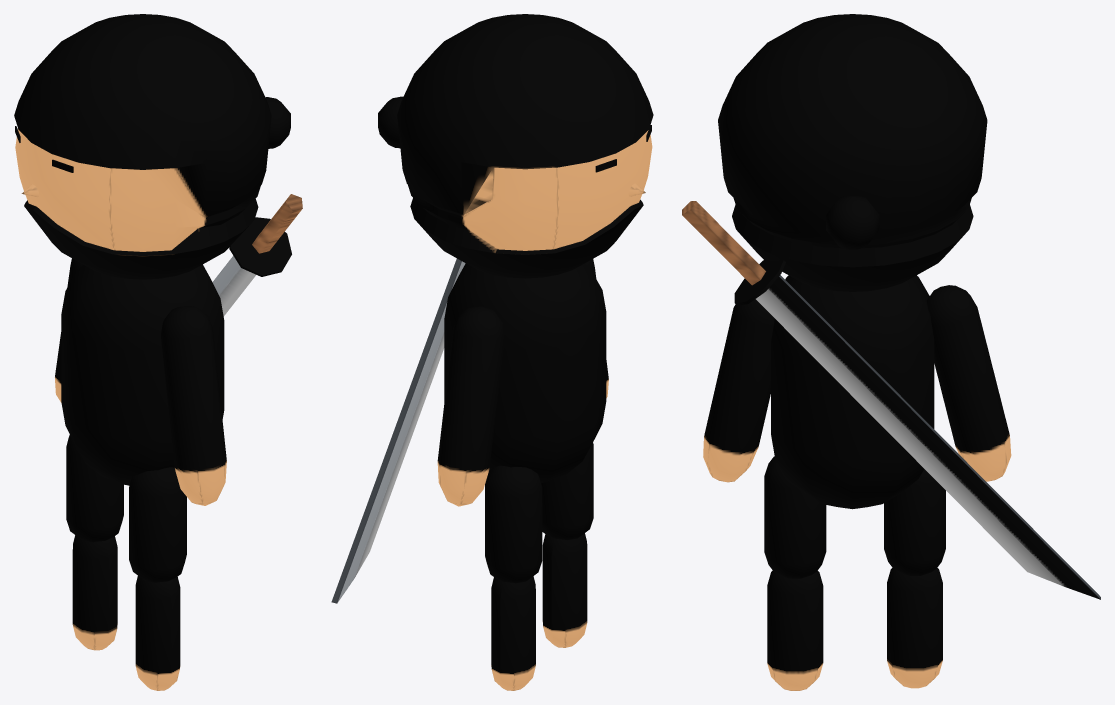
Rendered from NINJA Standing.fbx.
3 renders of one model, left to right at view 1: azimuth 30°, elevation 25°; view 2: azimuth 150°, elevation 25°; view 3: azimuth 270°, elevation 25°, orthographic. The views are drawn at different scales.
Visible parts, largest first — view 1: Pose_Looking_Out_1; view 2: Pose_Looking_Out_1; view 3: Pose_Looking_Out_1.
Part boxes in pixels (left/top/right/bottom): Pose_Looking_Out_1: left=14, top=14, right=302, bottom=690; Pose_Looking_Out_1: left=331, top=14, right=653, bottom=690; Pose_Looking_Out_1: left=682, top=14, right=1100, bottom=690.
Bounding box in the file's own units: 230 × 529 × 300.
